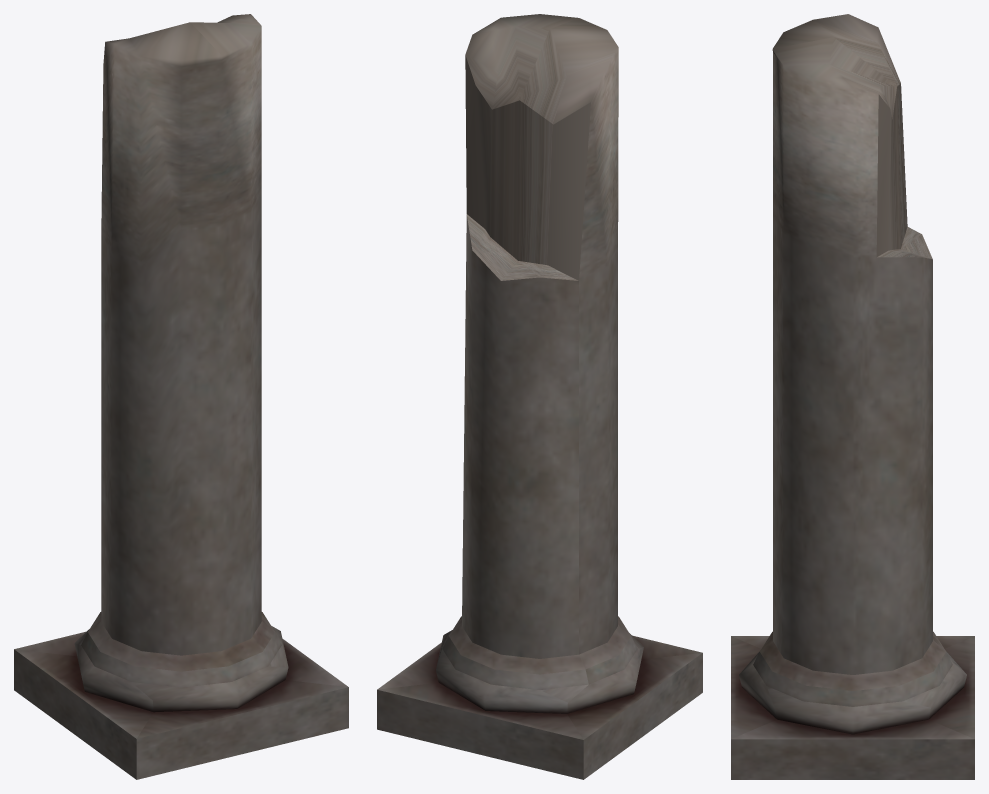
Rendered from sb_obj_outdoor009_AncientTemple_pillar01C_col.fbx.
3 views of the same model, side by side, from view 1: azimuth 30°, elevation 25°; view 2: azimuth 150°, elevation 25°; view 3: azimuth 270°, elevation 25° (orthographic). The views are drawn at different scales.
Parts seen in each view (by area): view 1: sb_obj_outdoor009_AncientTemple_pillar01C_col; view 2: sb_obj_outdoor009_AncientTemple_pillar01C_col; view 3: sb_obj_outdoor009_AncientTemple_pillar01C_col.
Boxes of the visible parts, x1,y1,x2,y2 form: sb_obj_outdoor009_AncientTemple_pillar01C_col: [14, 14, 348, 779]; sb_obj_outdoor009_AncientTemple_pillar01C_col: [377, 14, 702, 779]; sb_obj_outdoor009_AncientTemple_pillar01C_col: [731, 14, 974, 779].
Bounding box in the file's own units: 1.63 × 5.08 × 1.63.
